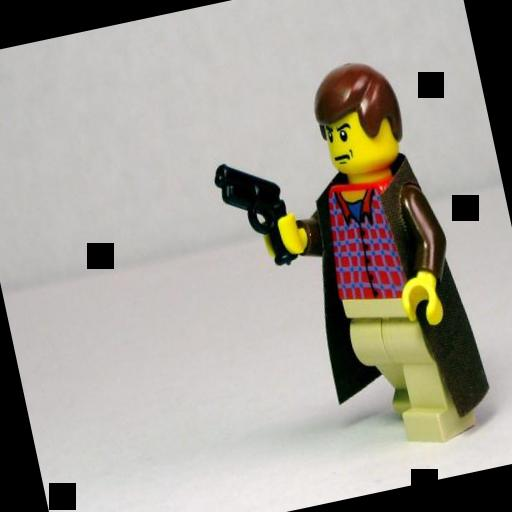Handgun: (204, 147, 300, 281)
